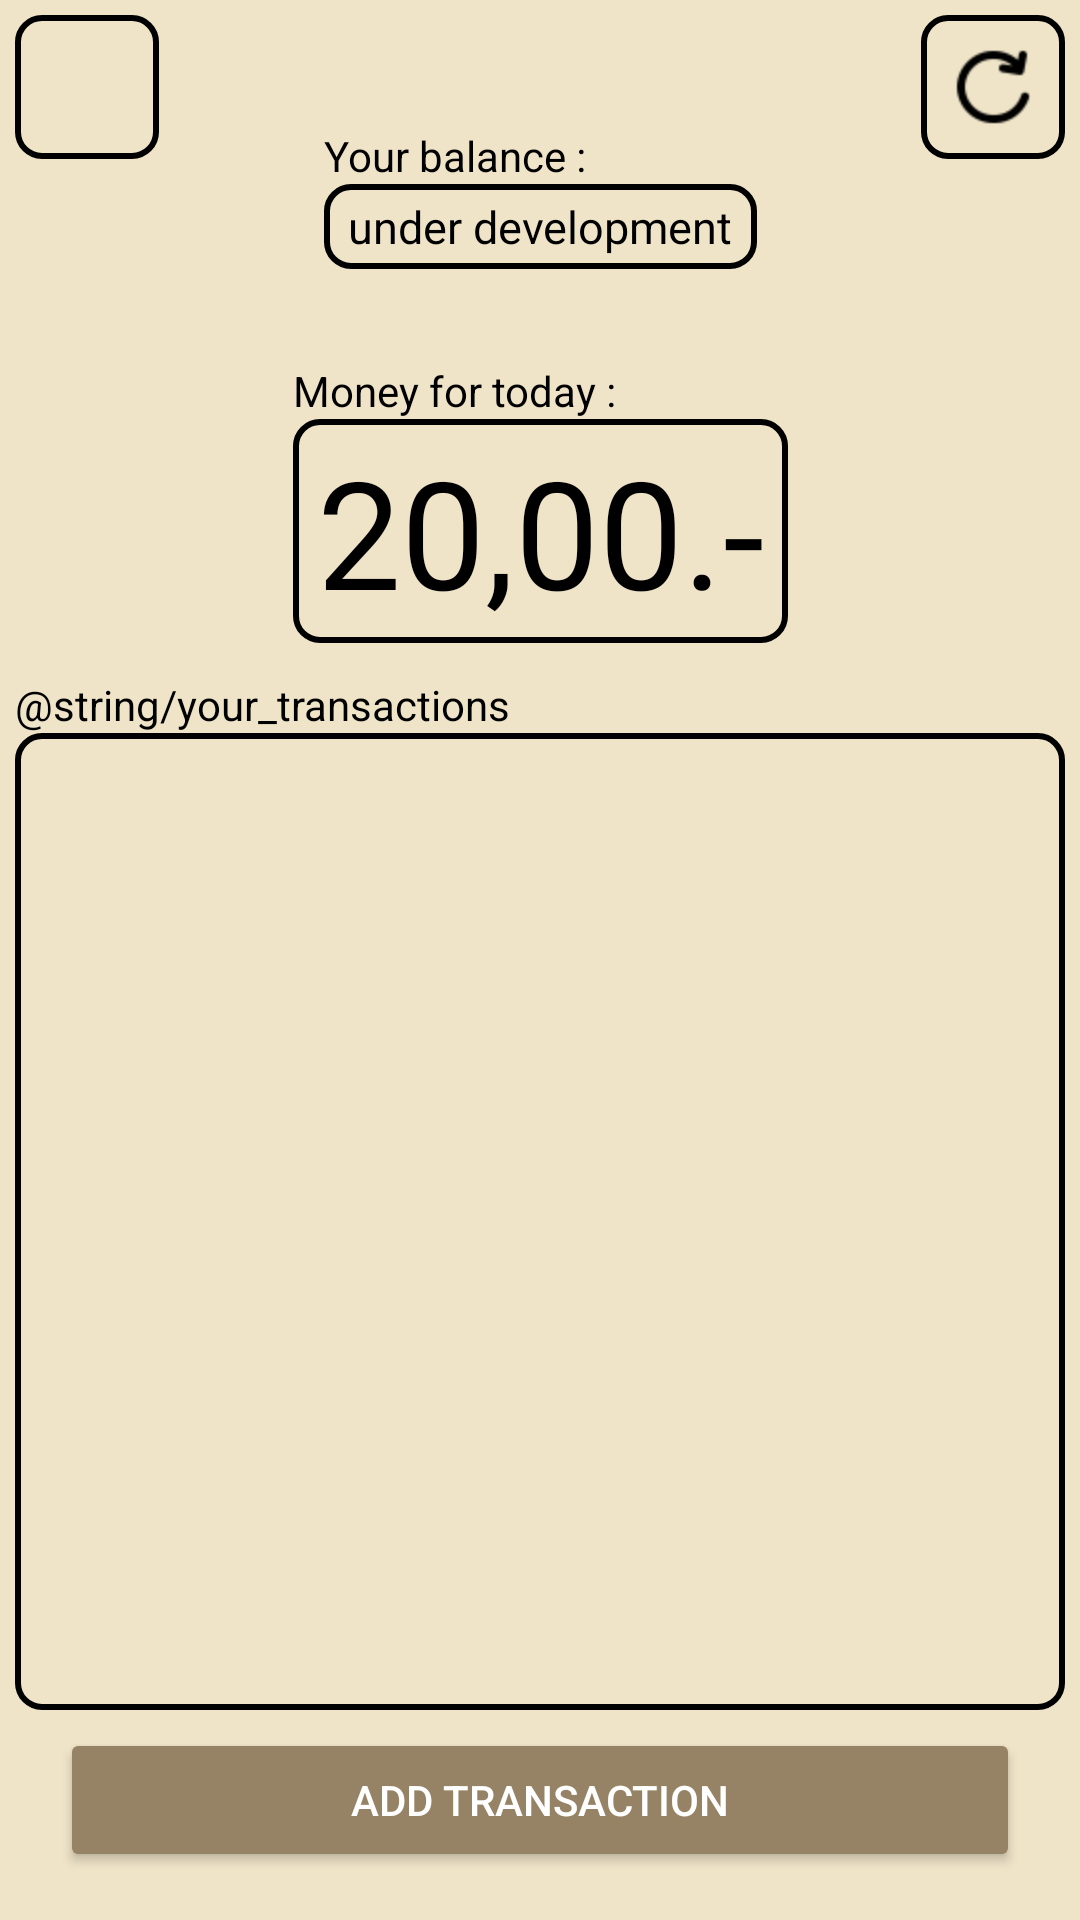

Locate icon controls on the screen. Image size 1080x1920, boxes as (x1, y1, x2, y2).
refresh arrow: (921, 15, 1065, 159)
